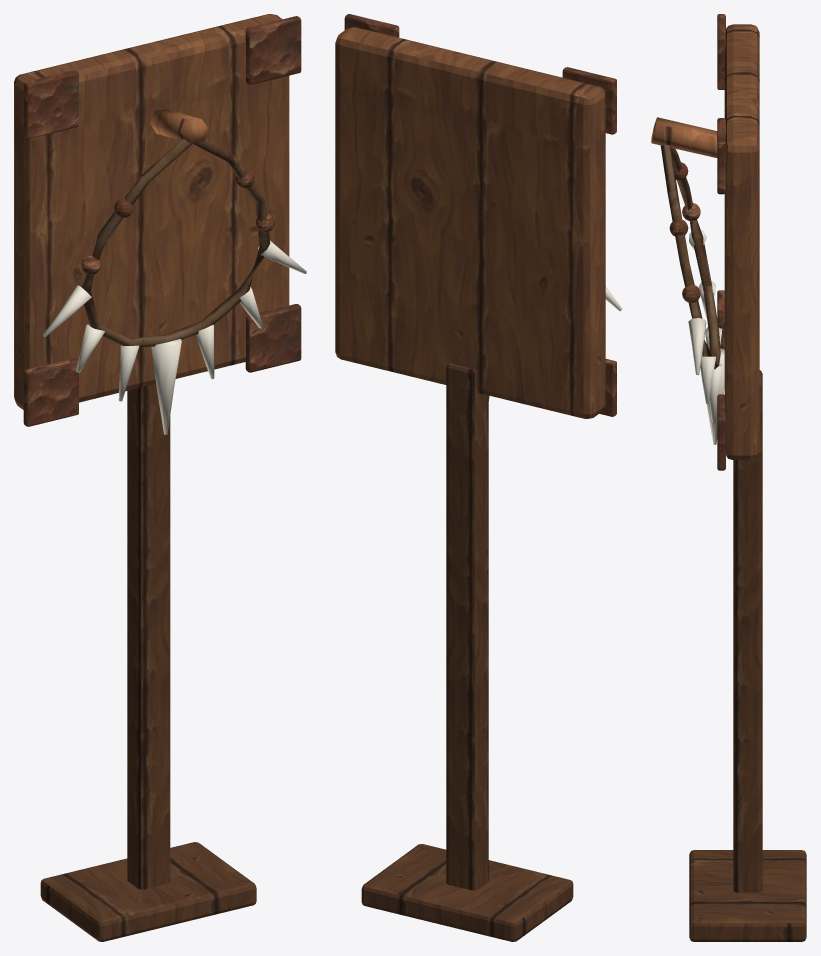
Rendered from tooth_necklace.glb.
3 renders of one model, left to right at view 1: azimuth 30°, elevation 25°; view 2: azimuth 150°, elevation 25°; view 3: azimuth 270°, elevation 25°, orthographic. The views are drawn at different scales.
Parts seen in each view (by area): view 1: model; view 2: model; view 3: model.
Boxes of the visible parts, x1,y1,x2,y2 form: model: (14,14,306,941); model: (335,14,622,941); model: (651,14,806,941).
Size of the model in its own units: 0.52 by 1.56 by 0.2647.
Materials: 10 (5 with a texture image).
